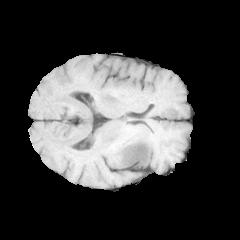glioma: (115, 140, 151, 168)
